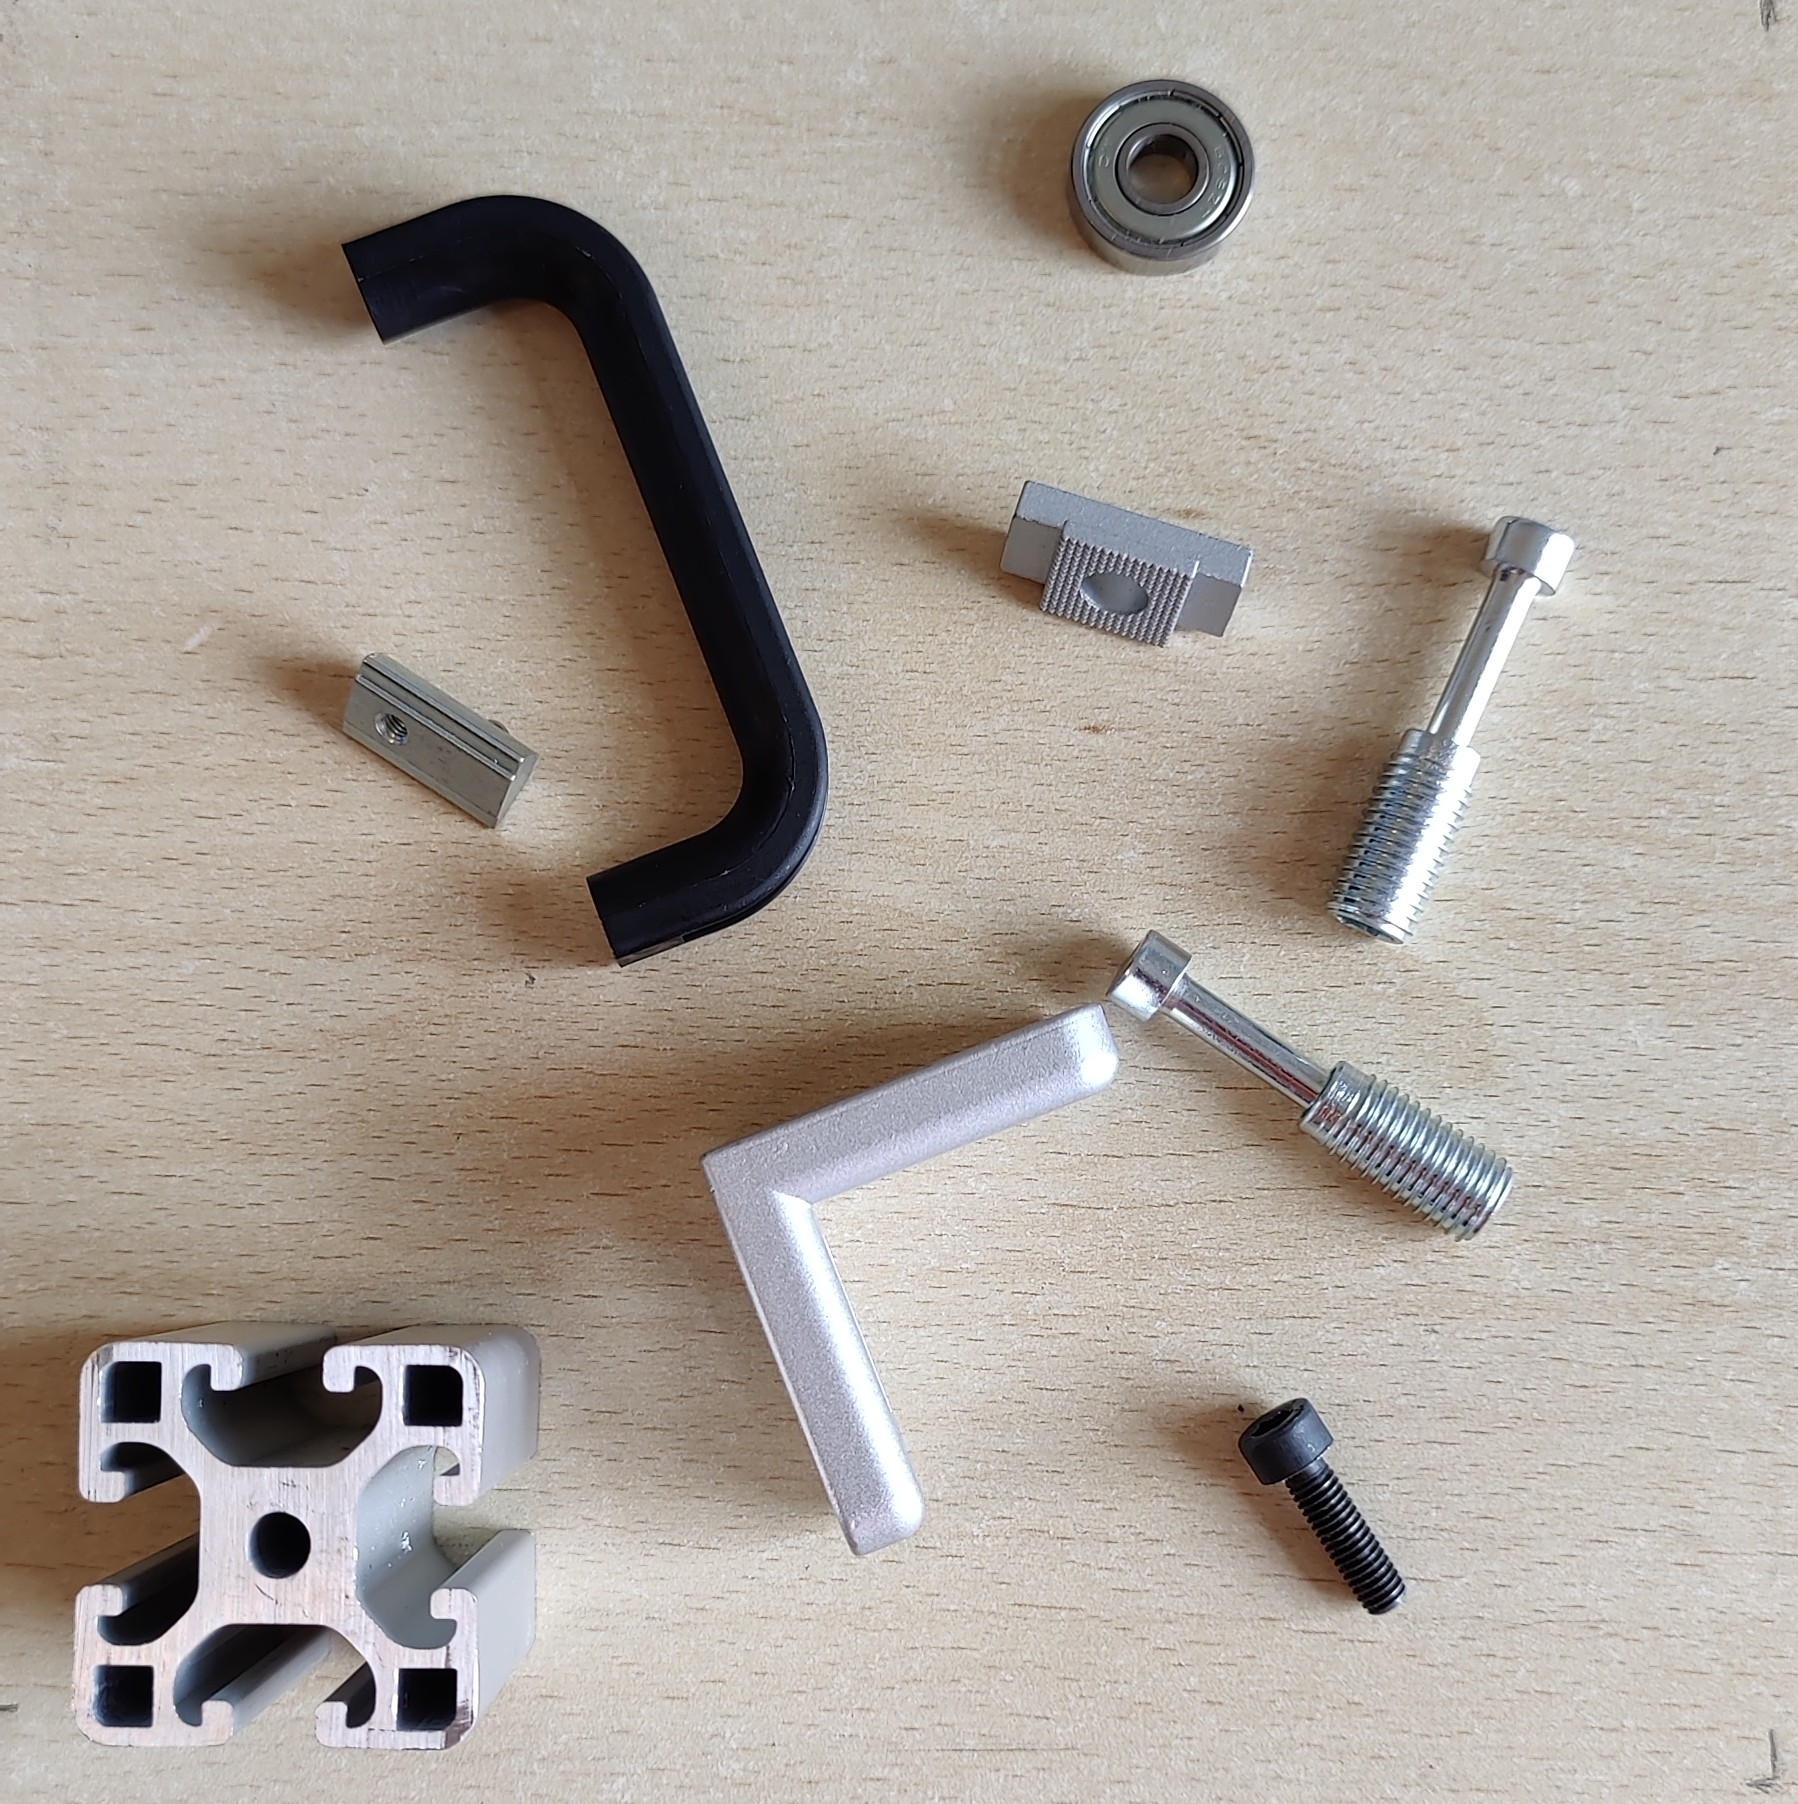Aluminium Extension: (68, 1322, 543, 1756)
Ball Bearing: (1064, 76, 1260, 280)
Multiwinkel: (696, 997, 1121, 1560)
Pull Handle: (338, 193, 831, 971)
Shoulder Socket Head Cap Screw: (1102, 927, 1518, 1244), (1322, 515, 1577, 948)
Socket Head Cap Screw: (1237, 1397, 1408, 1621)
T Nut Square: (998, 476, 1258, 653)
T Spring Nut: (339, 649, 540, 833)
